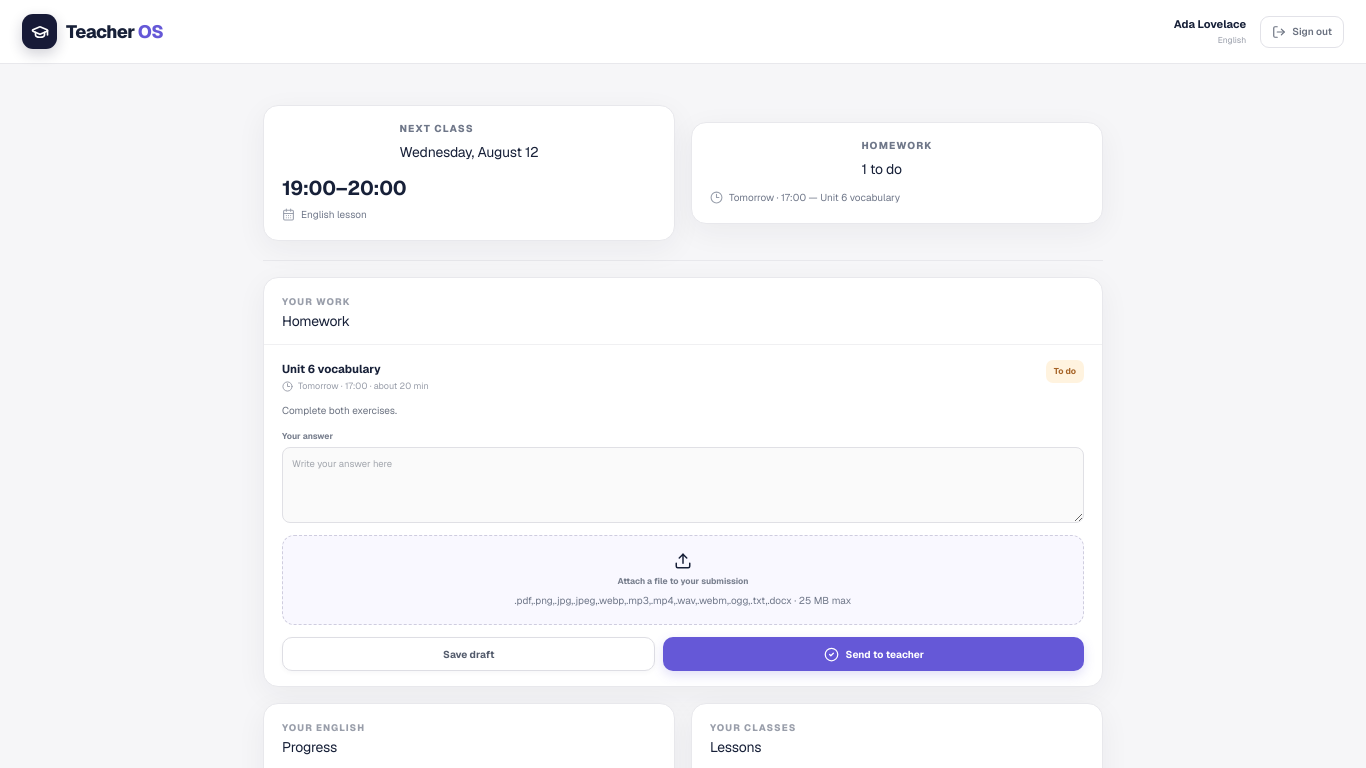
homework the learner still owes › refuses to send an empty answer
Click the button "Send to teacher".
click(874, 654)  # box [664, 637, 1084, 671]
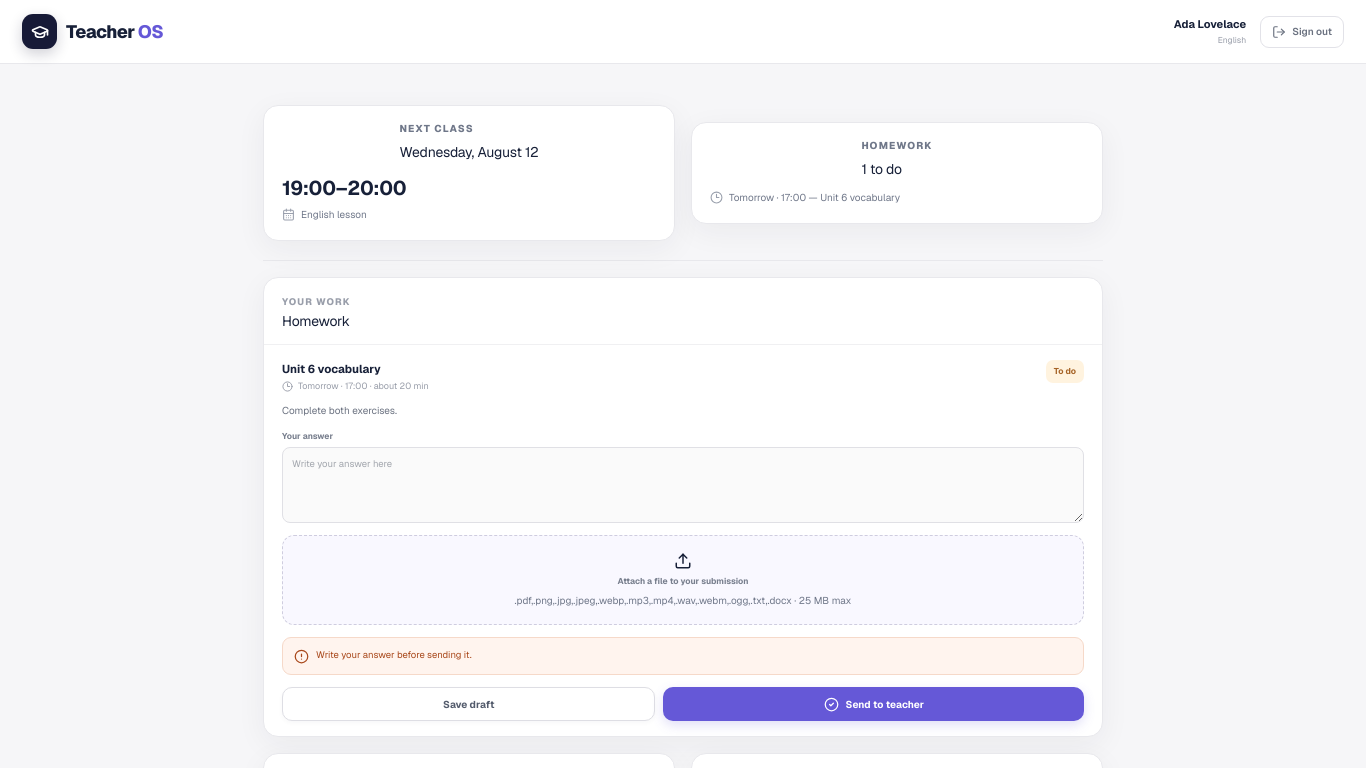
Expected: the message "Write your answer before sending it." is shown, [282, 637, 1084, 675]
